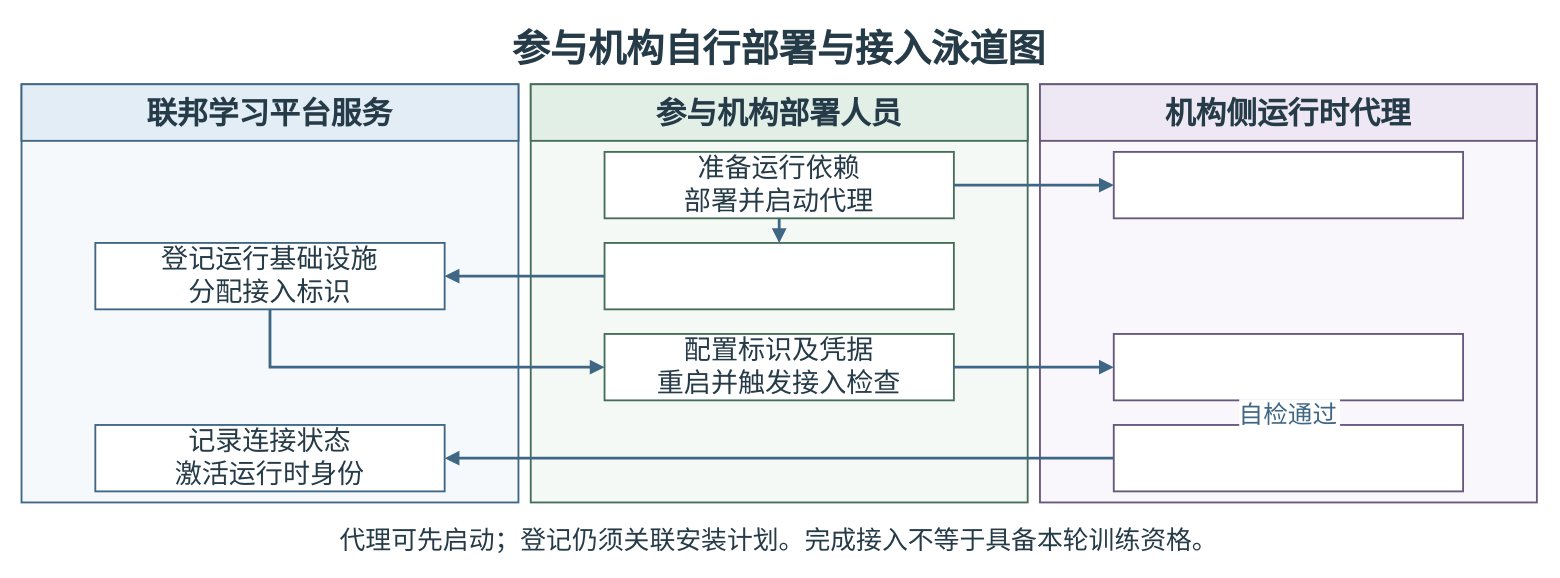
Image size: 1560x578. Some labels were removed from this diagram. Here are the shapes that lost their labels. From the top down, the centre of each, then its label:
pixel 1287 184: 等待接入配置
pixel 778 275: 按安装计划发起登记
pixel 1287 366: 加载配置并自检
pixel 1287 457: 上报连接状态和访问端点
